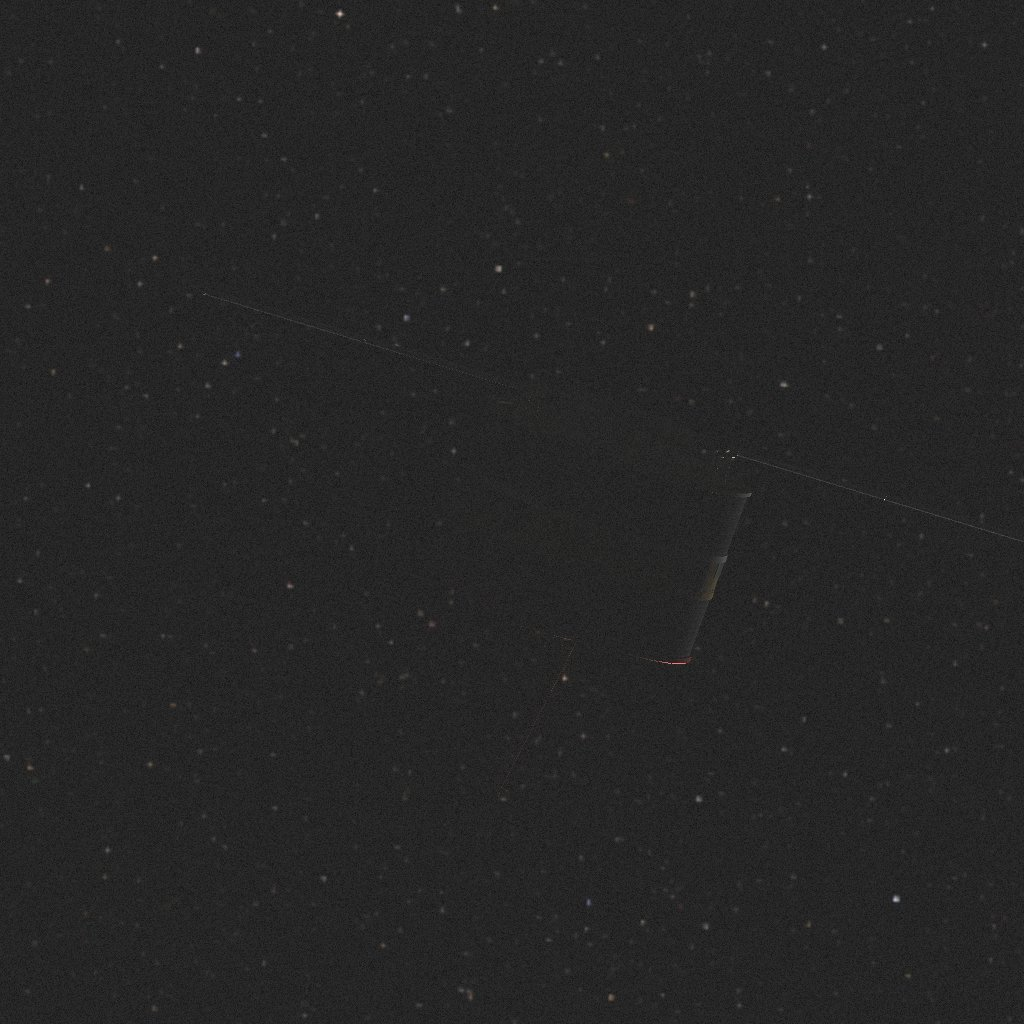double_star: (208, 301, 1005, 705)
